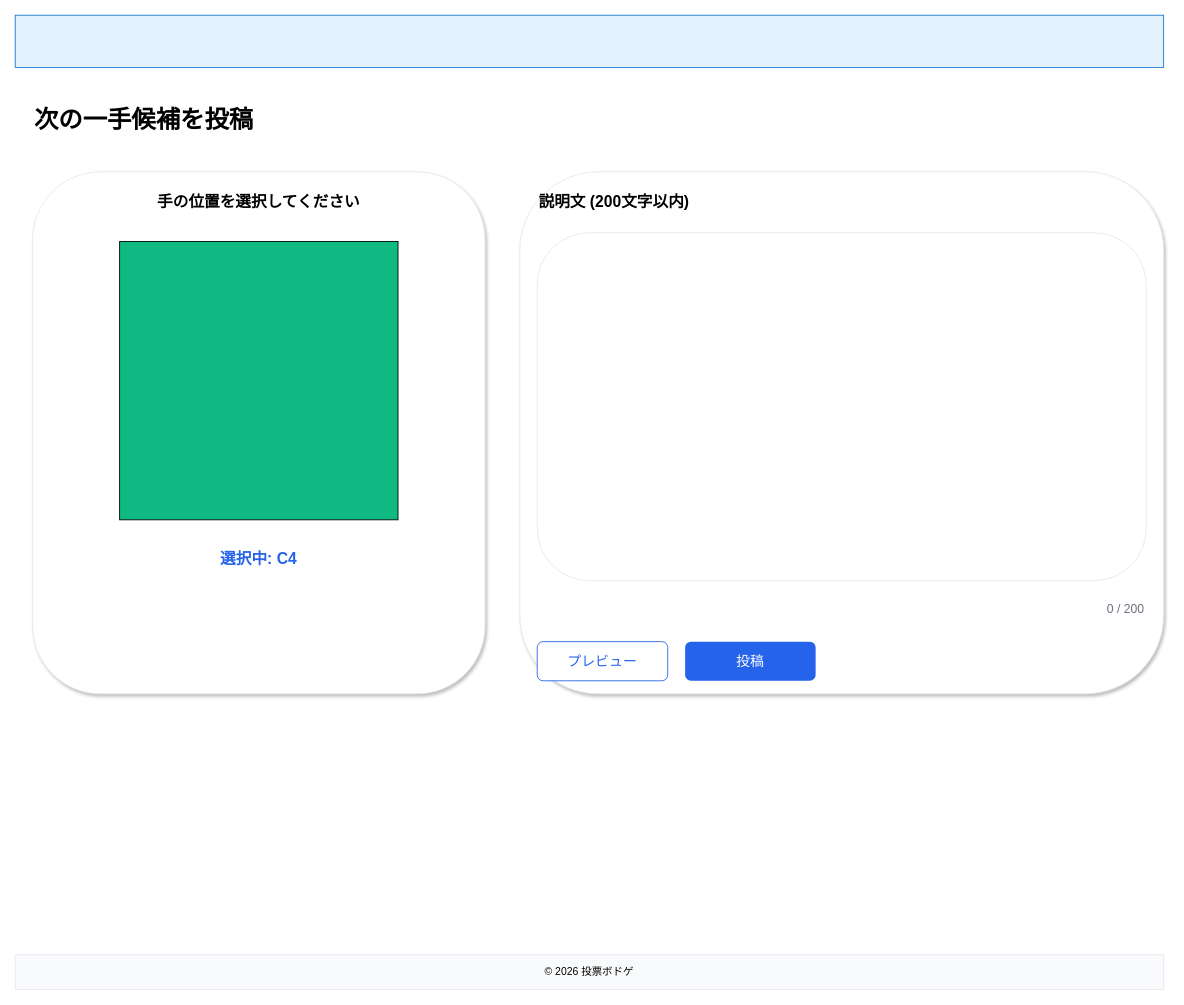
This 1184x1005 diagram has some shape labels left out. Here are the shapes that lost their labels. From the top down, the centre of each, then its label:
At (589,40): "[ロゴ] 投票ボドゲ".
At (258,380): "[盤面表示] 8x8グリッド クリックで選択".
